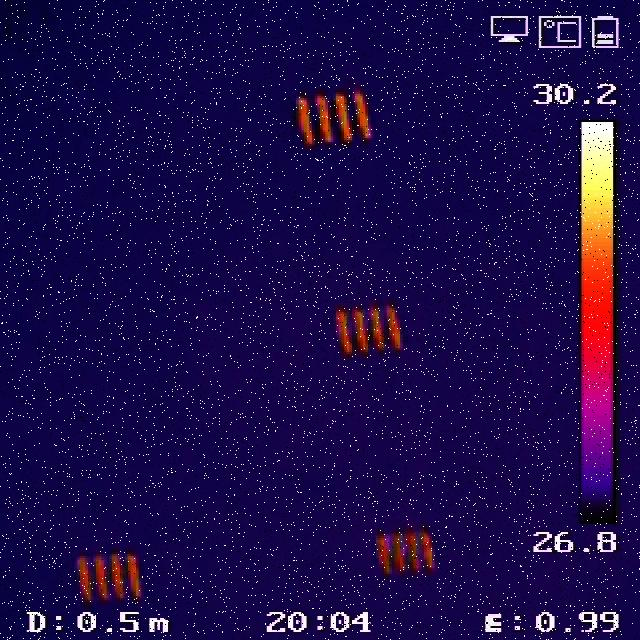Distinguishable 4-bar target: (295, 88, 373, 146), (331, 303, 406, 355)
threshold 4-bar target: (75, 554, 148, 601), (373, 532, 439, 573)
